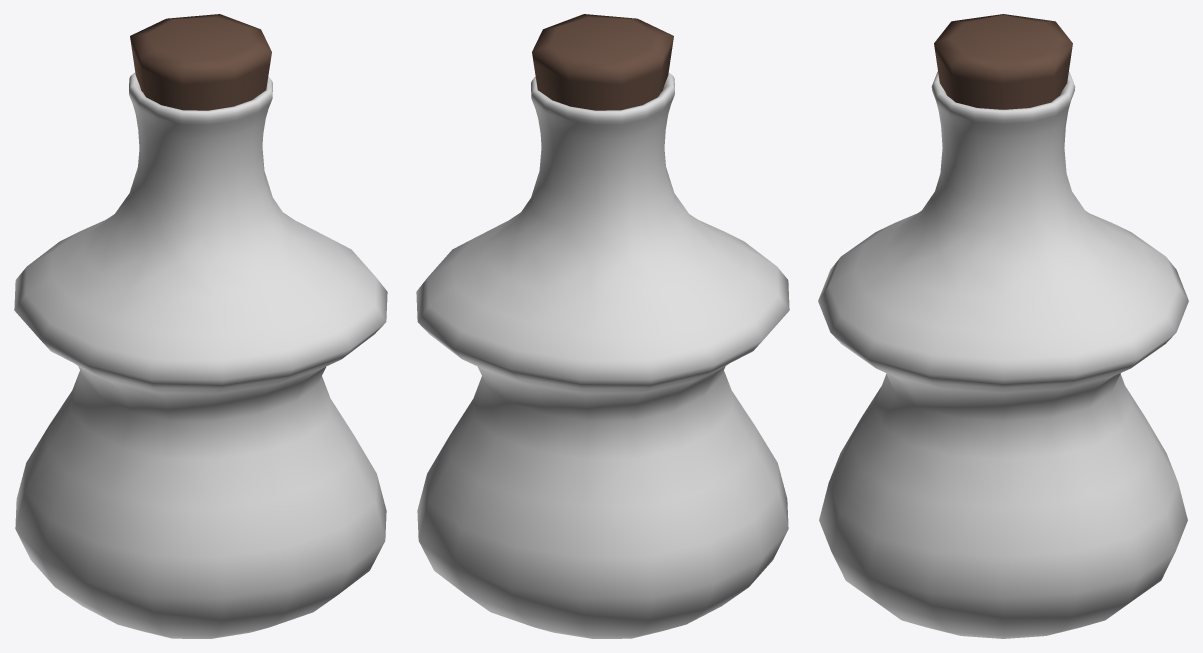
Rendered from potion5_filled.glb.
The picture shows the model from 3 angles, left to right: view 1: azimuth 30°, elevation 25°; view 2: azimuth 150°, elevation 25°; view 3: azimuth 270°, elevation 25°; orthographic projection.
Parts seen in each view (by area): view 1: Potion5_Filled; view 2: Potion5_Filled; view 3: Potion5_Filled.
Part boxes in pixels (x1,y1,x2,y2): Potion5_Filled: (14,14,387,638); Potion5_Filled: (416,14,789,638); Potion5_Filled: (818,14,1188,638).
Bounding box in the file's own units: 0.7081 × 1.23 × 0.7081.
